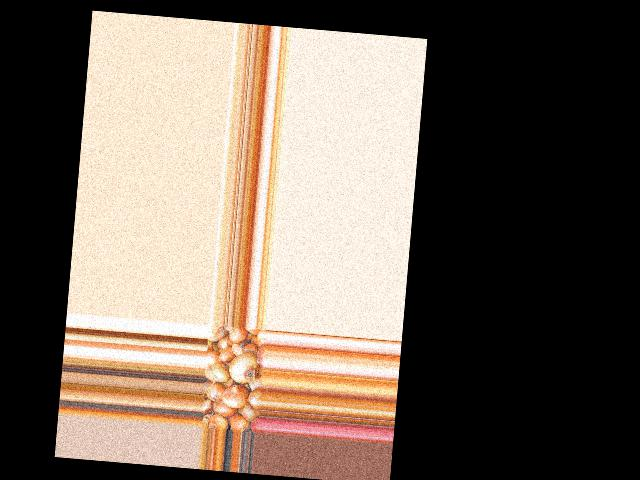onion: (206, 382, 226, 403)
